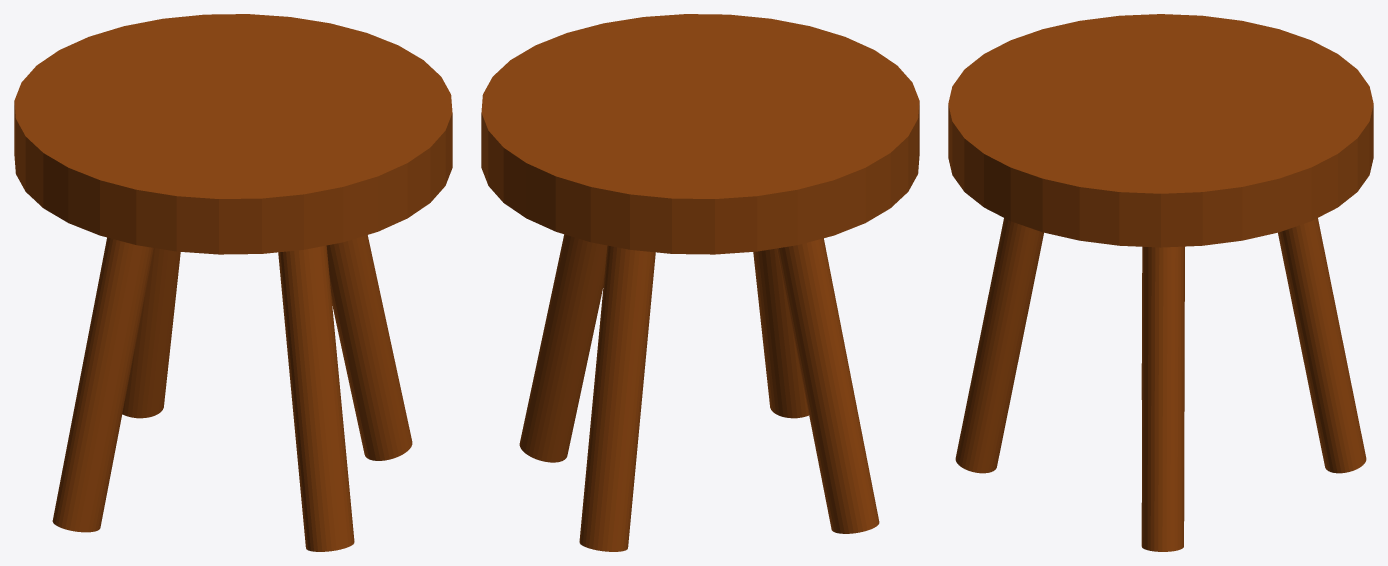
File: chair.fbx
3 renders of one model, left to right at view 1: azimuth 30°, elevation 25°; view 2: azimuth 150°, elevation 25°; view 3: azimuth 270°, elevation 25°, orthographic. The views are drawn at different scales.
Parts seen in each view (by area): view 1: Chair; view 2: Chair; view 3: Chair.
Part boxes in pixels (x1,y1,x2,y2): Chair: [14, 14, 452, 551]; Chair: [481, 14, 919, 551]; Chair: [948, 14, 1373, 551].
Size of the model in its own units: 98.74 by 95.62 by 98.74.
